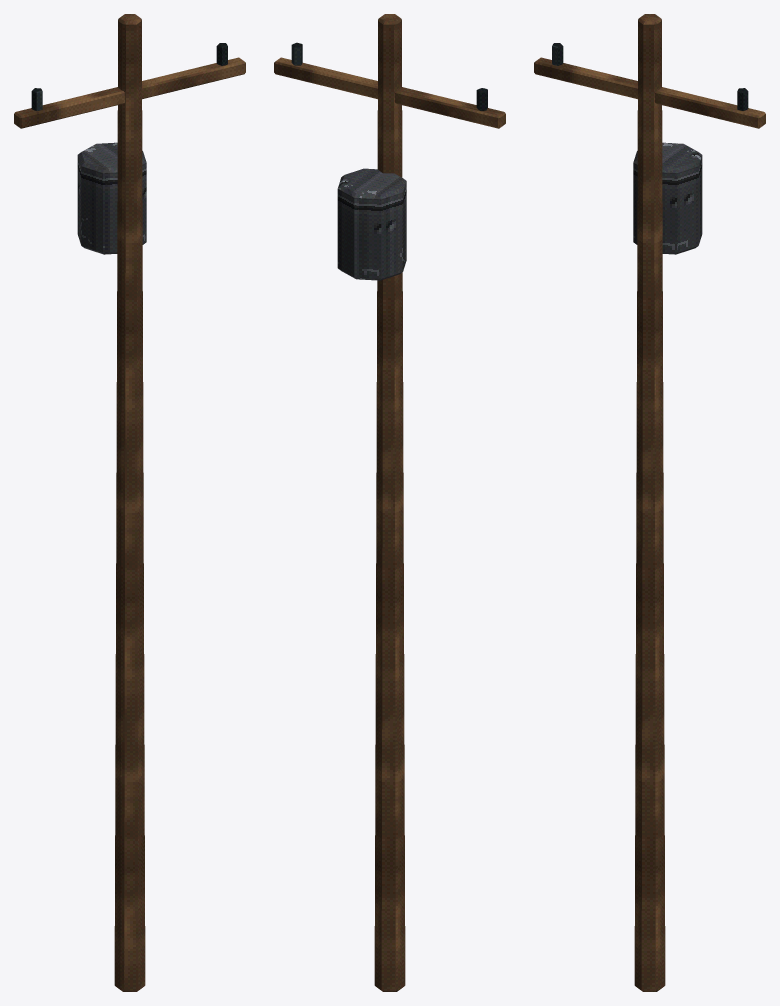
Rendered from prop_utility_pole.glb.
The picture shows the model from 3 angles, left to right: view 1: azimuth 30°, elevation 25°; view 2: azimuth 150°, elevation 25°; view 3: azimuth 330°, elevation 25°; orthographic projection.
Visible parts, largest first — view 1: prop_utility_pole_mesh; view 2: prop_utility_pole_mesh; view 3: prop_utility_pole_mesh.
Boxes of the visible parts, bbox=[...] form: prop_utility_pole_mesh: bbox=[14, 14, 245, 991]; prop_utility_pole_mesh: bbox=[274, 14, 505, 991]; prop_utility_pole_mesh: bbox=[534, 14, 765, 991].
Size of what is drawn, in the model's own units: 2.2 by 9 by 0.7399.
3 materials, 3 textured.
